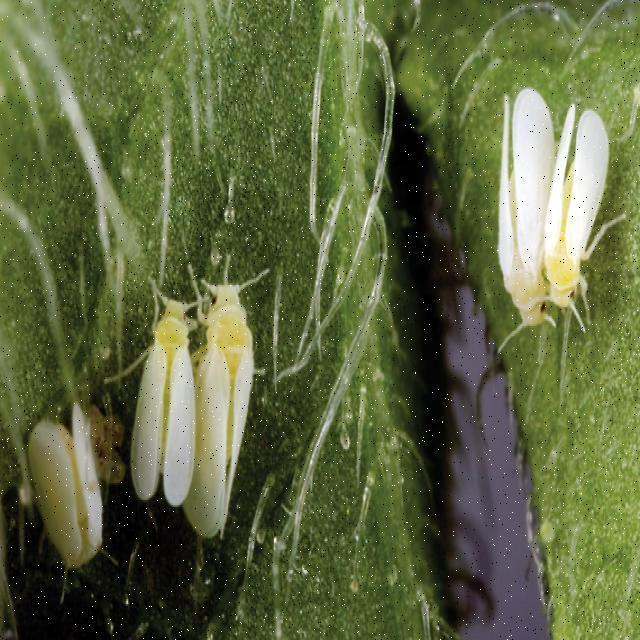Whiteflies: (512, 93, 617, 368), (180, 265, 275, 555), (485, 64, 550, 402), (17, 387, 106, 565), (136, 270, 195, 535)
